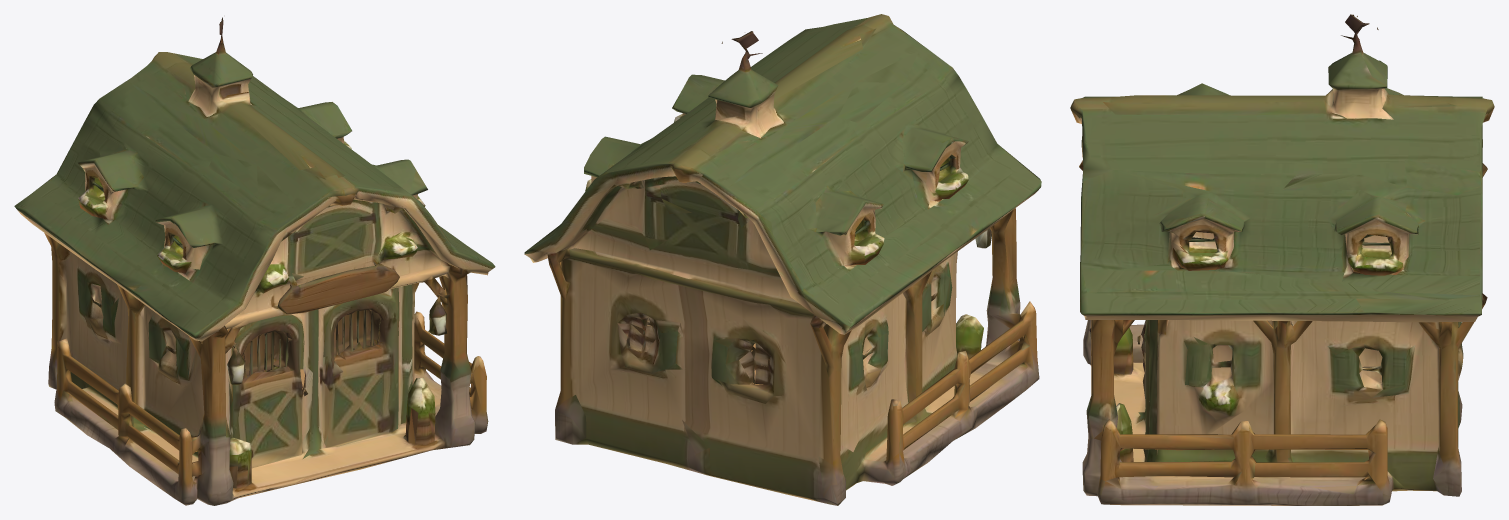
3 views of the same model, side by side, from view 1: azimuth 30°, elevation 25°; view 2: azimuth 150°, elevation 25°; view 3: azimuth 270°, elevation 25° (orthographic). The views are drawn at different scales.
Visible parts, largest first — view 1: stable-lv3; view 2: stable-lv3; view 3: stable-lv3.
Part boxes in pixels (x1,y1,x2,y2): stable-lv3: [14, 17, 495, 505]; stable-lv3: [524, 14, 1041, 505]; stable-lv3: [1070, 14, 1494, 505].
Size of the model in its own units: 3.93 by 4.5 by 4.2.
1 material, 1 textured.
